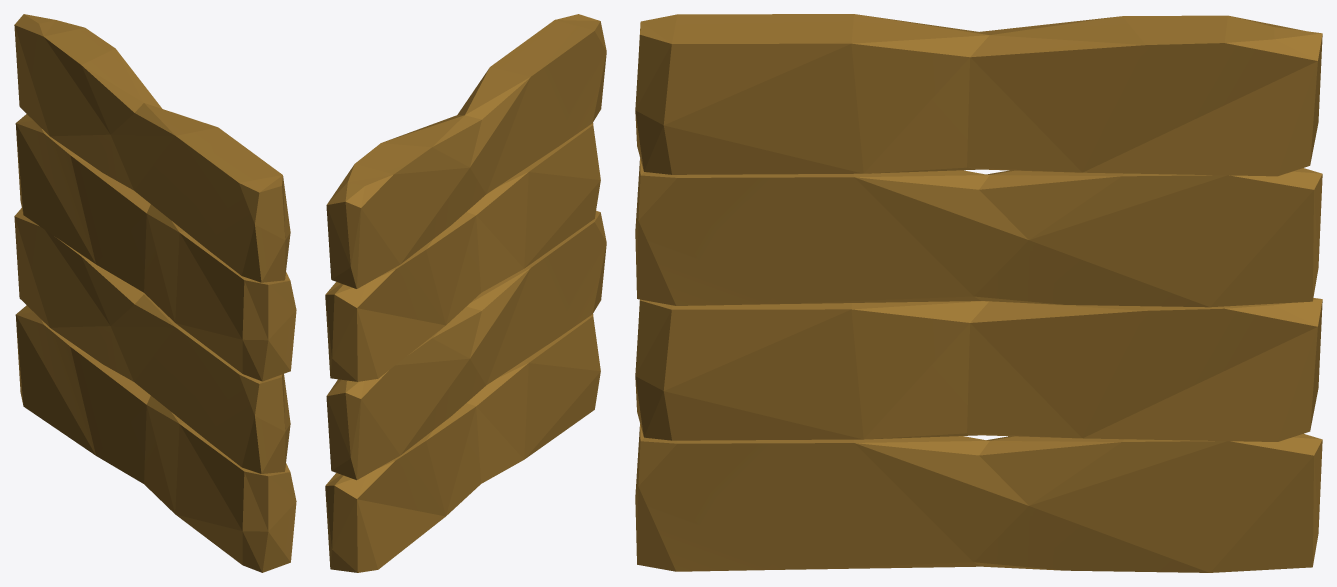
The model's file is Wall.fbx.
3 views of the same model, side by side, from view 1: azimuth 30°, elevation 25°; view 2: azimuth 150°, elevation 25°; view 3: azimuth 270°, elevation 25° (orthographic). The views are drawn at different scales.
Visible parts, largest first — view 1: Wall; view 2: Wall; view 3: Wall.
Part boxes in pixels (x1,y1,x2,y2): Wall: (14,14,296,572); Wall: (325,14,606,572); Wall: (635,14,1322,572).
Size of the model in its own units: 52.05 by 394 by 456.
